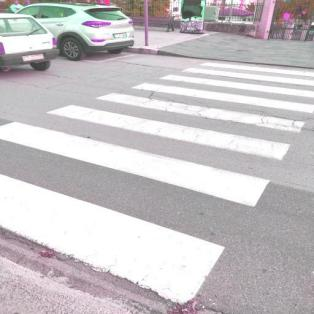Paso de Cebra: (33, 85, 314, 164)
